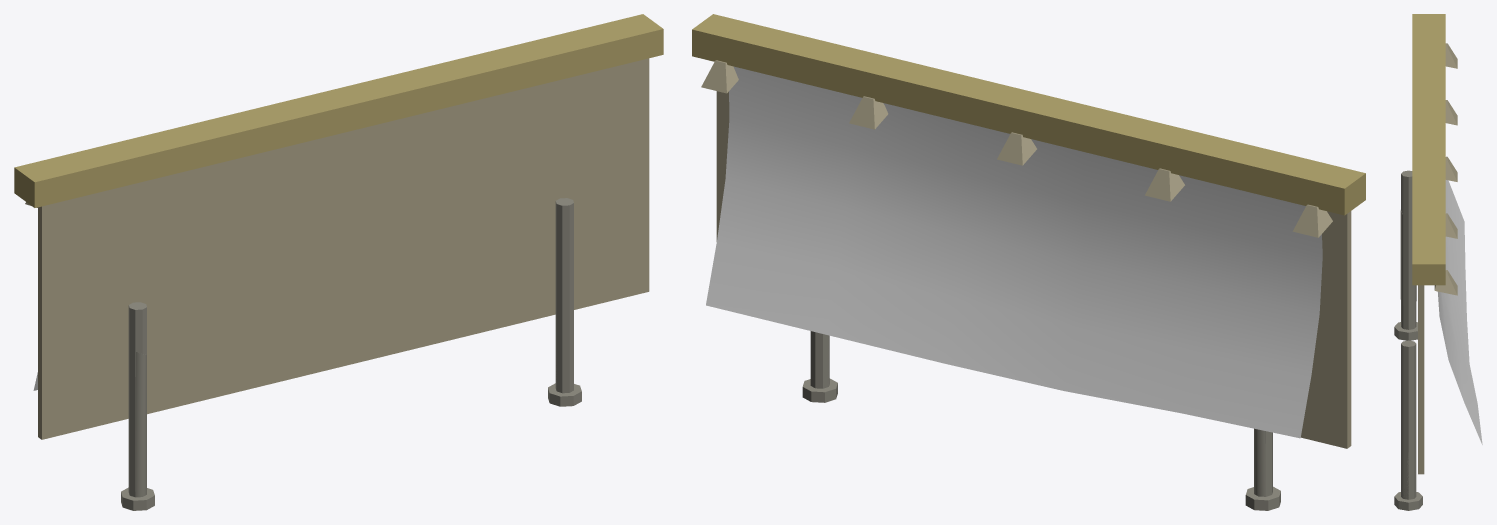
Rendered from Panel.fbx.
3 renders of one model, left to right at view 1: azimuth 30°, elevation 25°; view 2: azimuth 150°, elevation 25°; view 3: azimuth 270°, elevation 25°, orthographic. The views are drawn at different scales.
Visible parts, largest first — view 1: Panel, Panel Destructible.001_cell_cell_cell, Panel Destructible.001_cell.001_cell_cell.001, Panel Destructible.001_cell_cell.001_cell.001, Panel Destructible.001_cell_cell.001_cell, Panel Destructible.001_cell.001_cell.001_cell.001, Panel Destructible.001_cell.001_cell_cell, Panel Destructible.001_cell.001_cell.001_cell, Panel Destructible.002_cell.001_cell.001, Panel Destructible.002_cell.001_cell, Panel Destructible.001_cell_cell_cell.001, Panel Destructible.001_cell.00_cell; view 2: Panel, Panel Destructible.002_cell.001_cell.001, Panel Destructible.002_cell.001_cell, Panel Destructible.001_cell.00_cell; view 3: Panel, Panel Destructible.002_cell.001_cell.001, Panel Destructible.002_cell.001_cell, Panel Destructible.001_cell.00_cell, Panel Destructible.001_cell_cell.001_cell.
Boxes of the visible parts, x1=… form: Panel: x1=14, y1=15, x2=663, y2=510; Panel Destructible.001_cell_cell_cell: x1=345, y1=167, x2=649, y2=329; Panel Destructible.001_cell.001_cell_cell.001: x1=42, y1=271, x2=223, y2=439; Panel Destructible.001_cell_cell.001_cell.001: x1=345, y1=95, x2=497, y2=240; Panel Destructible.001_cell_cell.001_cell: x1=497, y1=58, x2=649, y2=203; Panel Destructible.001_cell.001_cell.001_cell.001: x1=170, y1=132, x2=345, y2=283; Panel Destructible.001_cell.001_cell_cell: x1=223, y1=241, x2=345, y2=395; Panel Destructible.001_cell.001_cell.001_cell: x1=42, y1=165, x2=210, y2=314; Panel Destructible.002_cell.001_cell.001: x1=295, y1=14, x2=662, y2=116; Panel Destructible.002_cell.001_cell: x1=14, y1=99, x2=302, y2=203; Panel Destructible.001_cell_cell_cell.001: x1=345, y1=288, x2=494, y2=365; Panel Destructible.001_cell.00_cell: x1=135, y1=351, x2=556, y2=497; Panel: x1=692, y1=29, x2=1365, y2=510; Panel Destructible.002_cell.001_cell.001: x1=692, y1=14, x2=1086, y2=144; Panel Destructible.002_cell.001_cell: x1=1054, y1=105, x2=1365, y2=211; Panel Destructible.001_cell.00_cell: x1=823, y1=335, x2=1265, y2=496; Panel: x1=1394, y1=14, x2=1482, y2=510; Panel Destructible.002_cell.001_cell.001: x1=1412, y1=121, x2=1445, y2=285; Panel Destructible.002_cell.001_cell: x1=1412, y1=14, x2=1445, y2=125; Panel Destructible.001_cell.00_cell: x1=1400, y1=210, x2=1416, y2=499; Panel Destructible.001_cell_cell.001_cell: x1=1418, y1=285, x2=1423, y2=366.
Bounding box in the file's own units: 1416 × 741 × 211.
